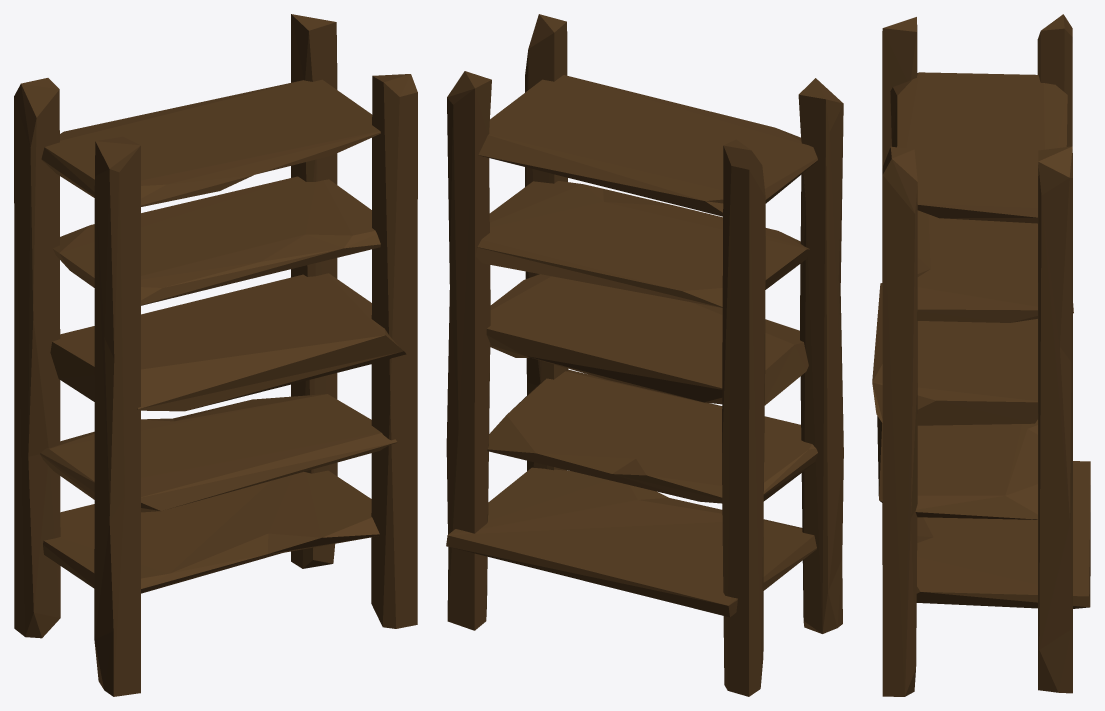
The model's file is SM_shelf_02.fbx.
3 views of the same model, side by side, from view 1: azimuth 30°, elevation 25°; view 2: azimuth 150°, elevation 25°; view 3: azimuth 270°, elevation 25° (orthographic). The views are drawn at different scales.
Visible parts, largest first — view 1: Object32405; view 2: Object32405; view 3: Object32405.
Boxes of the visible parts, box(x1,y1,x2,y2) form: Object32405: box(14, 14, 417, 696); Object32405: box(446, 14, 843, 696); Object32405: box(872, 14, 1090, 696).
Size of the model in its own units: 49.25 by 83.98 by 30.94.
